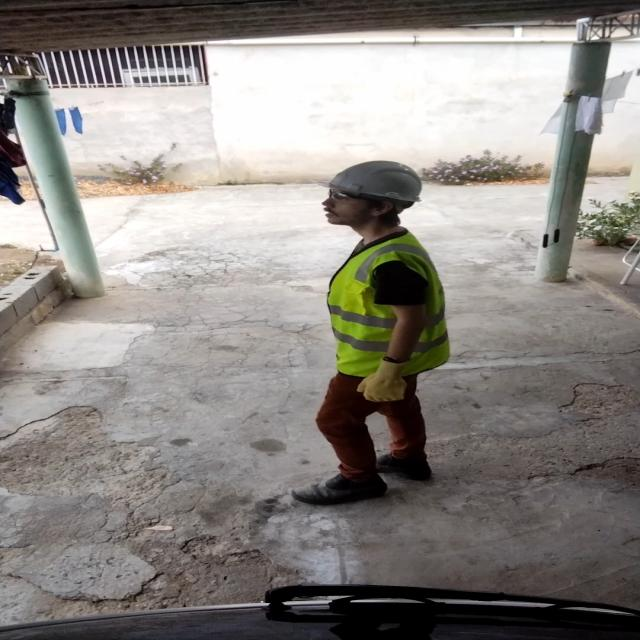glove: (352, 353, 414, 402)
helmet: (308, 158, 430, 209)
pants: (307, 373, 437, 474)
vest: (323, 234, 452, 378)
